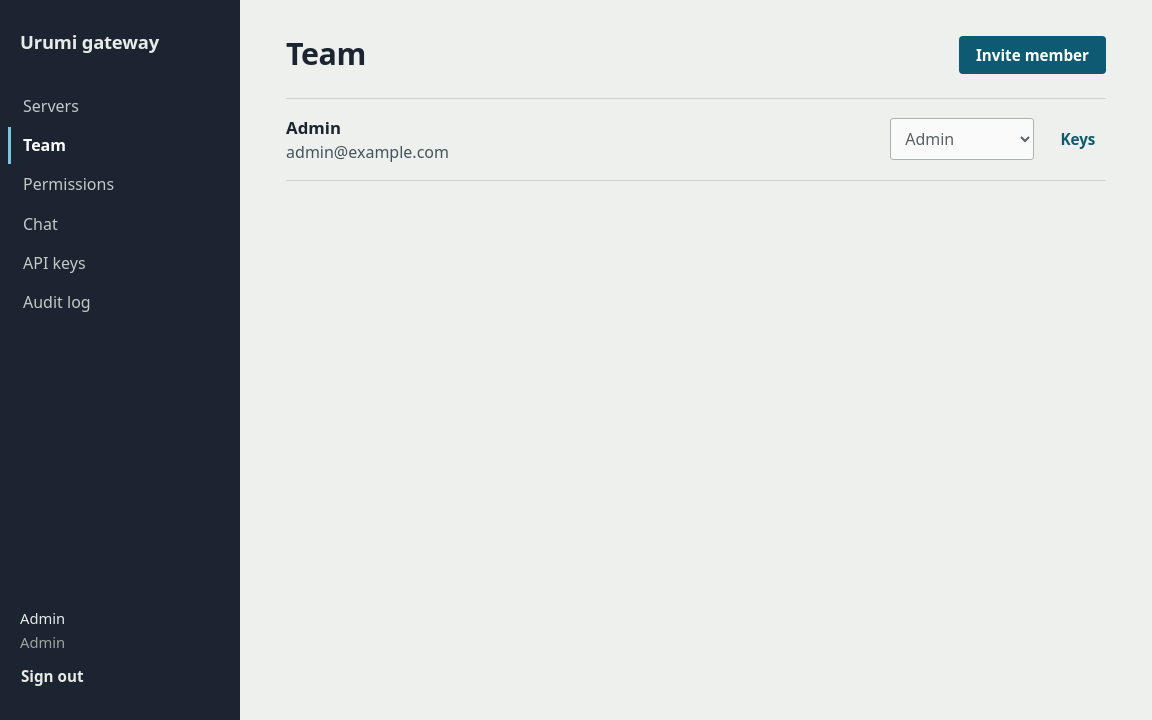
Test: team › shows the temporary password and key once, then forgets them
Click the button "Invite member" at {"x": 1032, "y": 55}, box [959,36,1106,74]
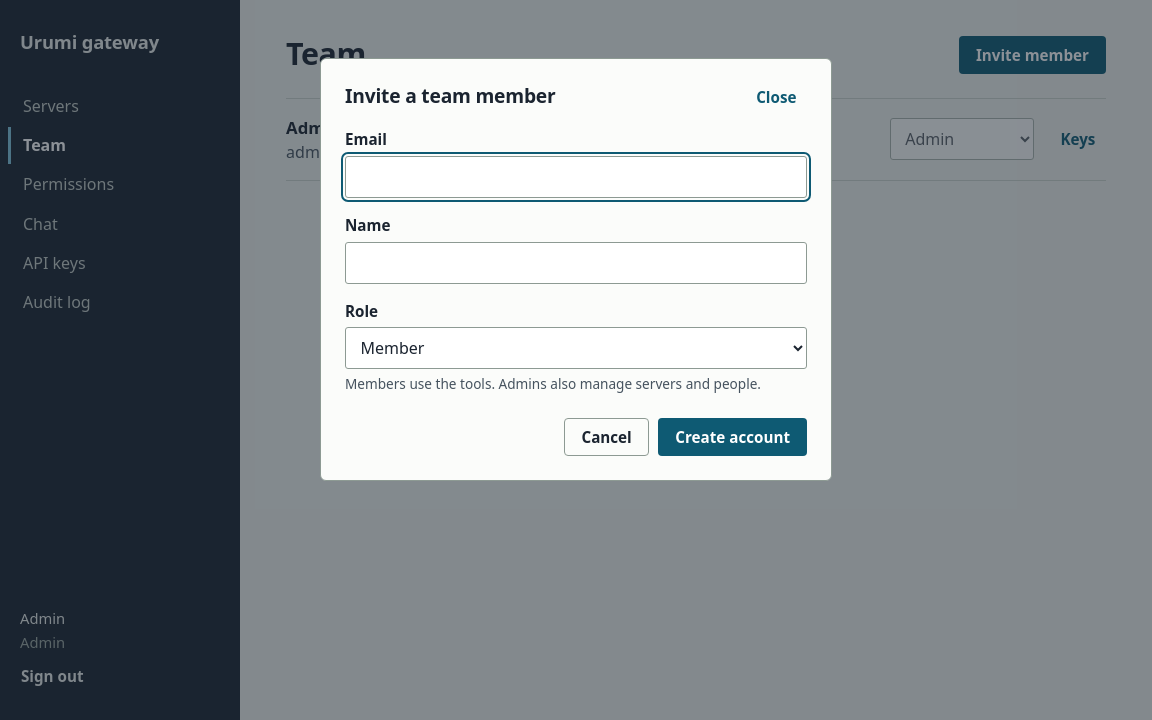
Type "bob@example.com" into the field labelled "Email" at {"x": 576, "y": 177}, box [345,156,807,198]
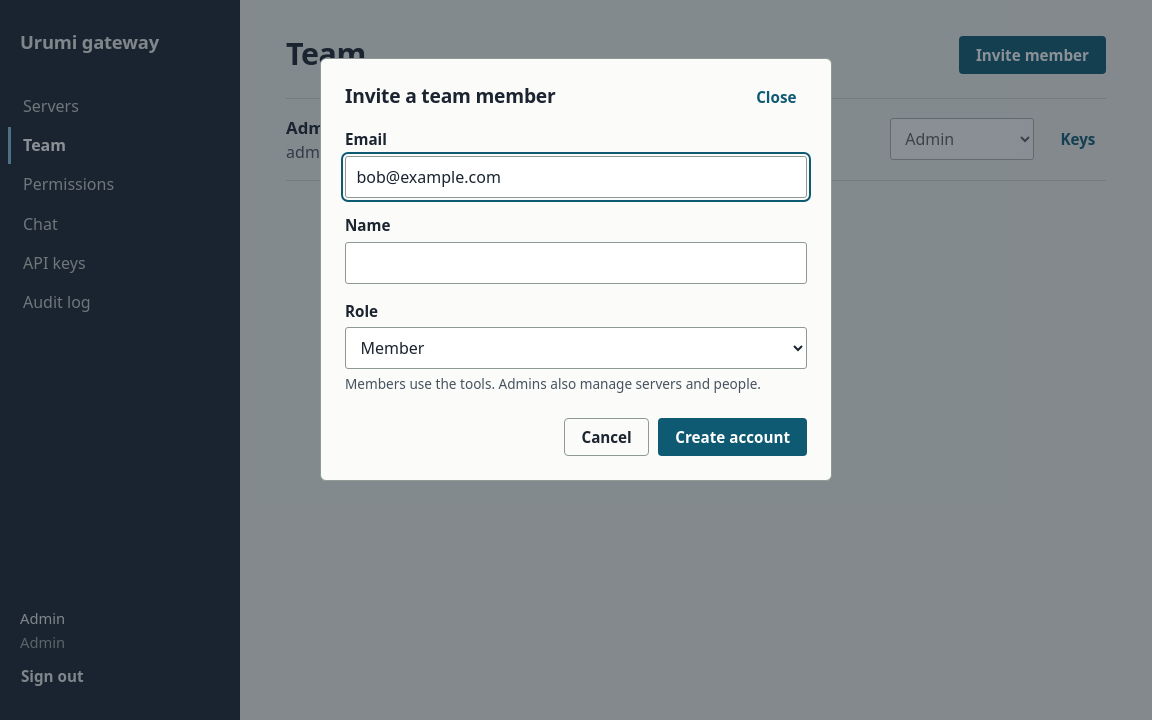
Click the button "Create account" at {"x": 733, "y": 437}, box [658,418,807,456]
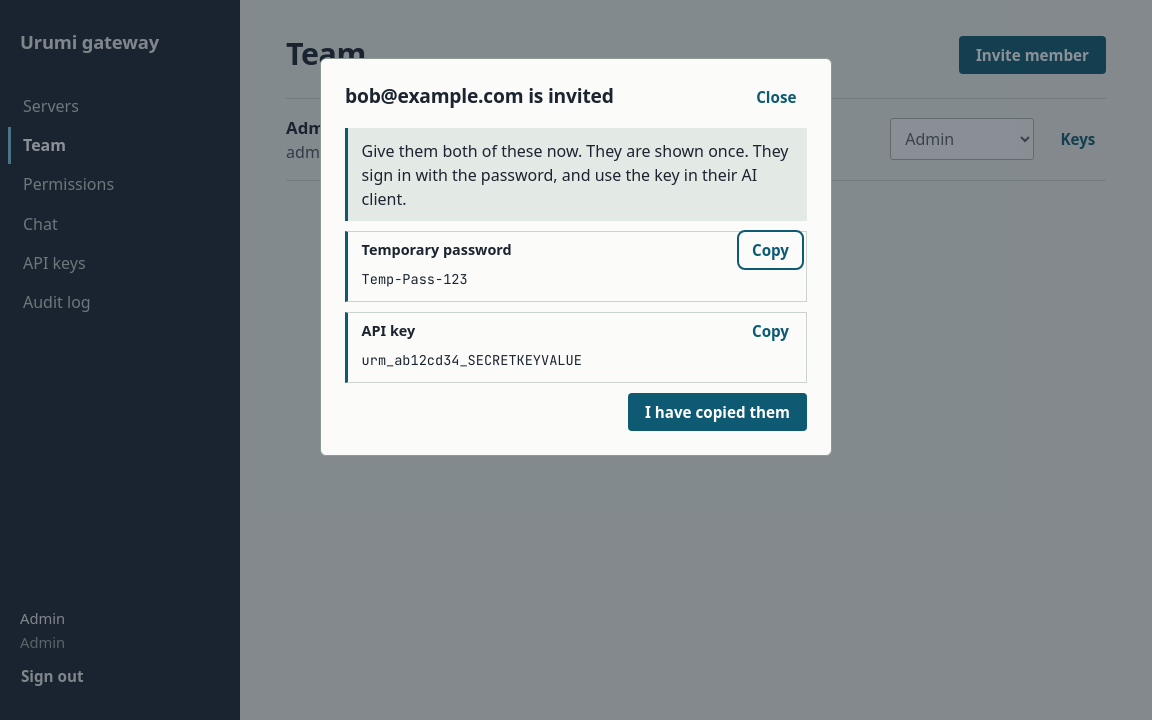
Now the text "Temp-Pass-123" is shown, box [362,270,468,288]
Now the text "urm_ab12cd34_SECRETKEYVALUE" is shown, box [362,351,582,369]
Click the button "I have copied them" at {"x": 718, "y": 412}, box [628,393,807,431]
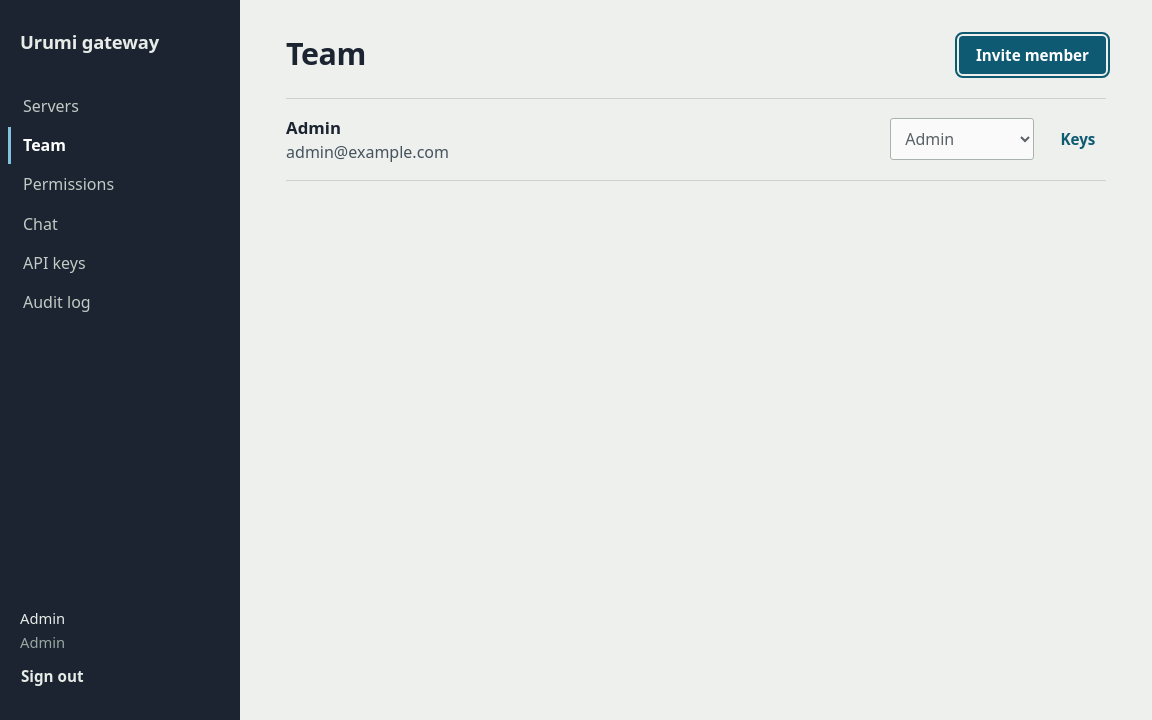
Now the text "Temp-Pass-123" is gone
Now the text "urm_ab12cd34_SECRETKEYVALUE" is gone
